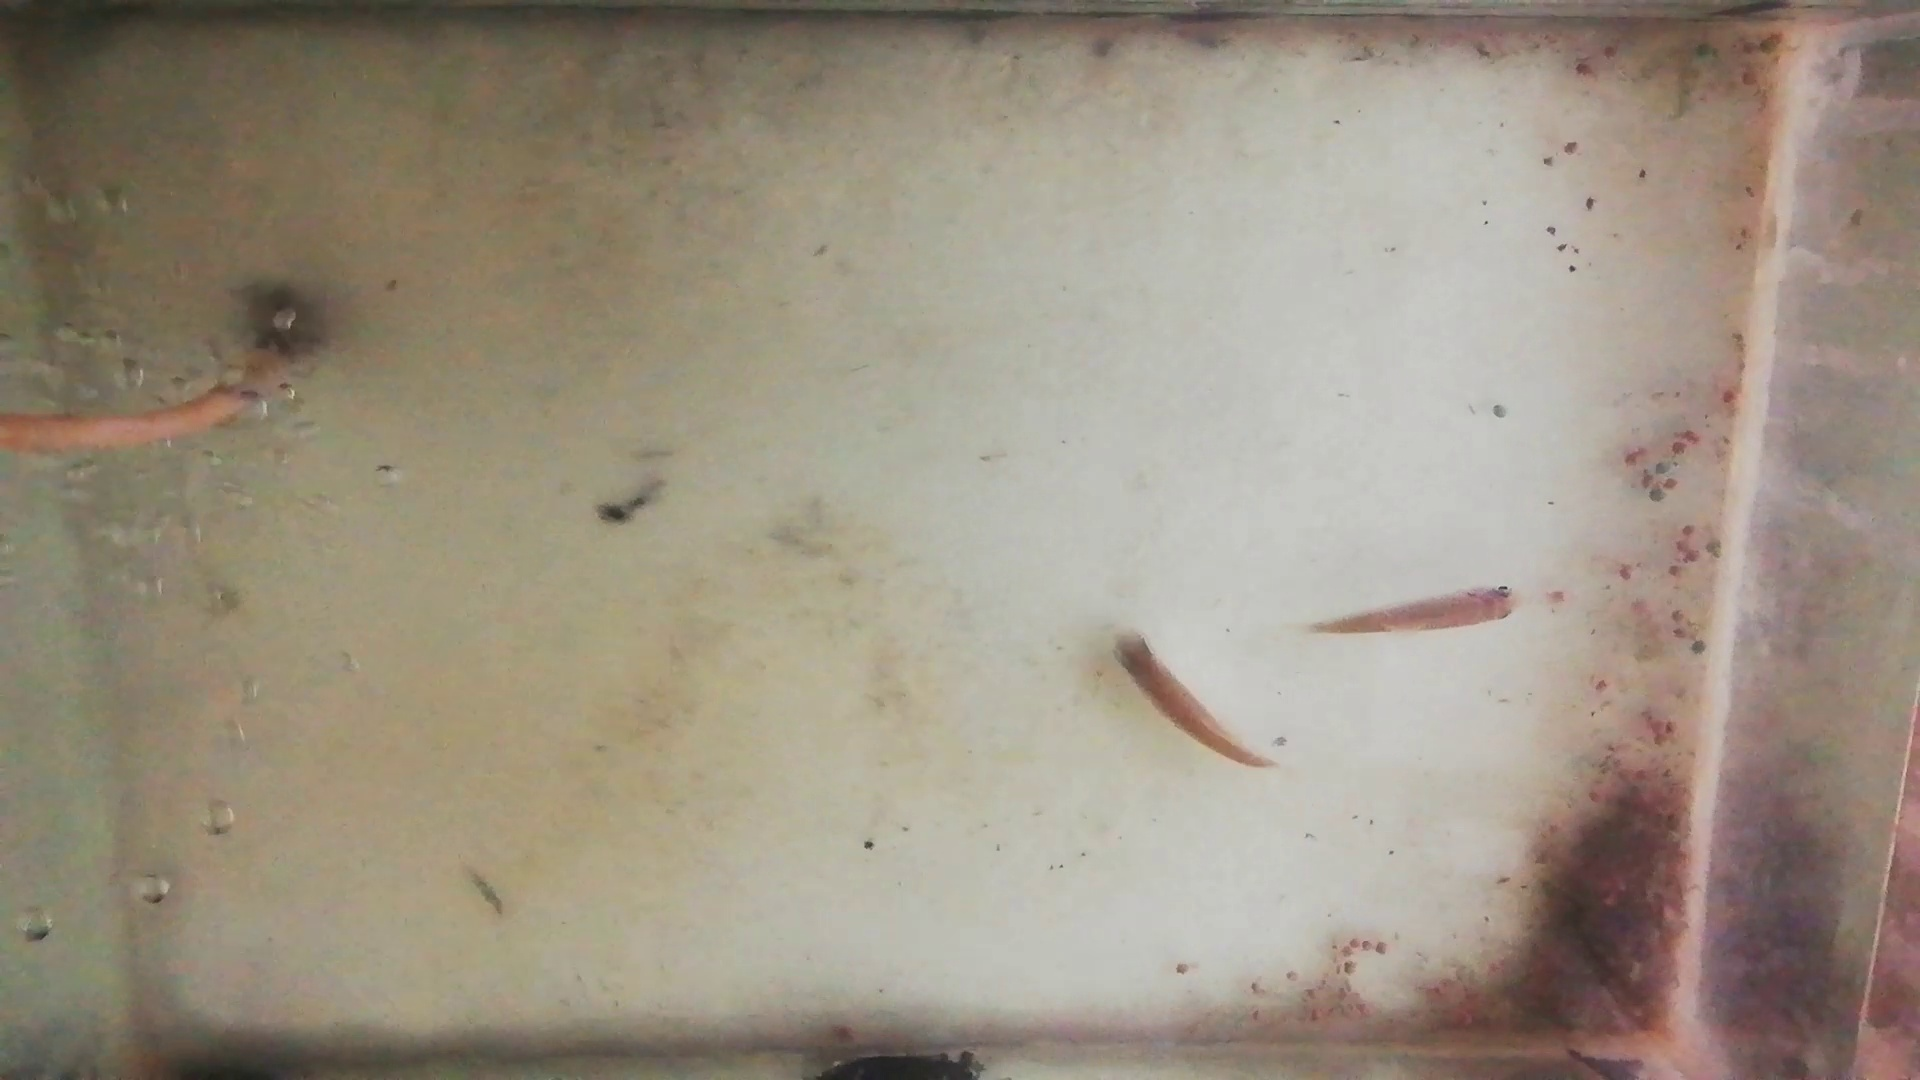fish: (1113, 633, 1270, 770), (1317, 585, 1522, 629)
